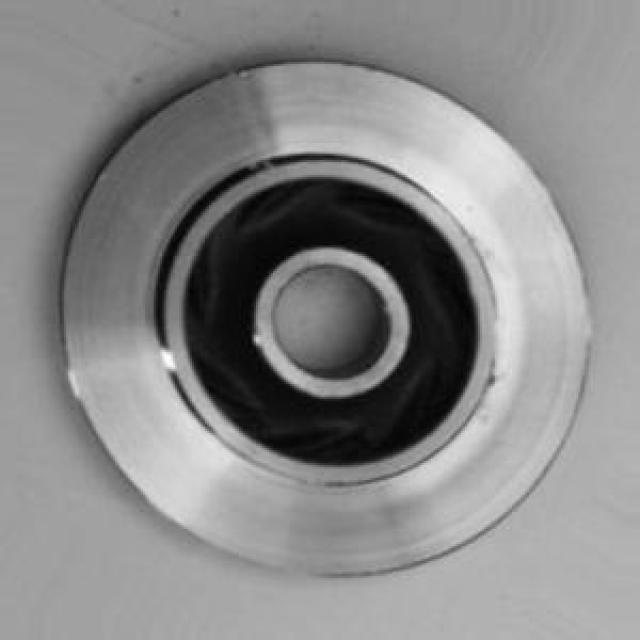Defect: (484, 361, 509, 393)
